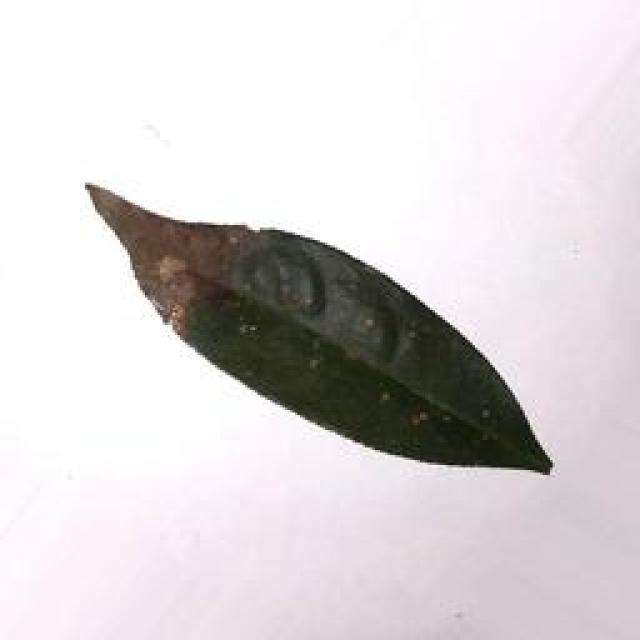Brown Blight: (76, 174, 530, 470)
